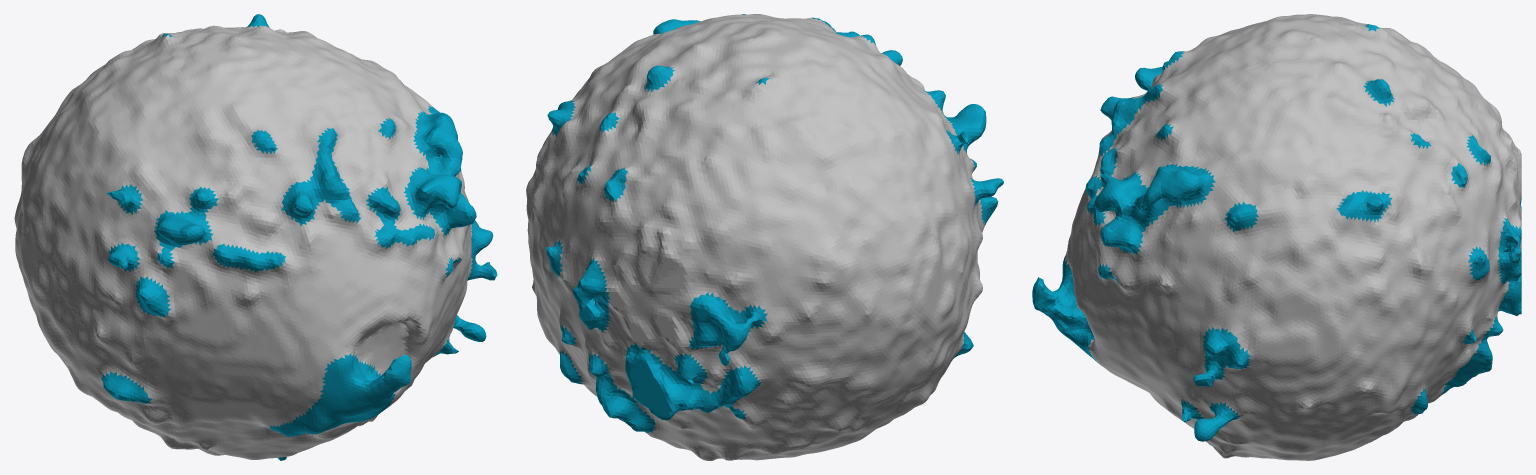
3 renders of one model, left to right at view 1: azimuth 30°, elevation 25°; view 2: azimuth 150°, elevation 25°; view 3: azimuth 270°, elevation 25°, orthographic. The views are drawn at different scales.
Bounding box in the file's own units: 93.69 × 89.47 × 97.99.
